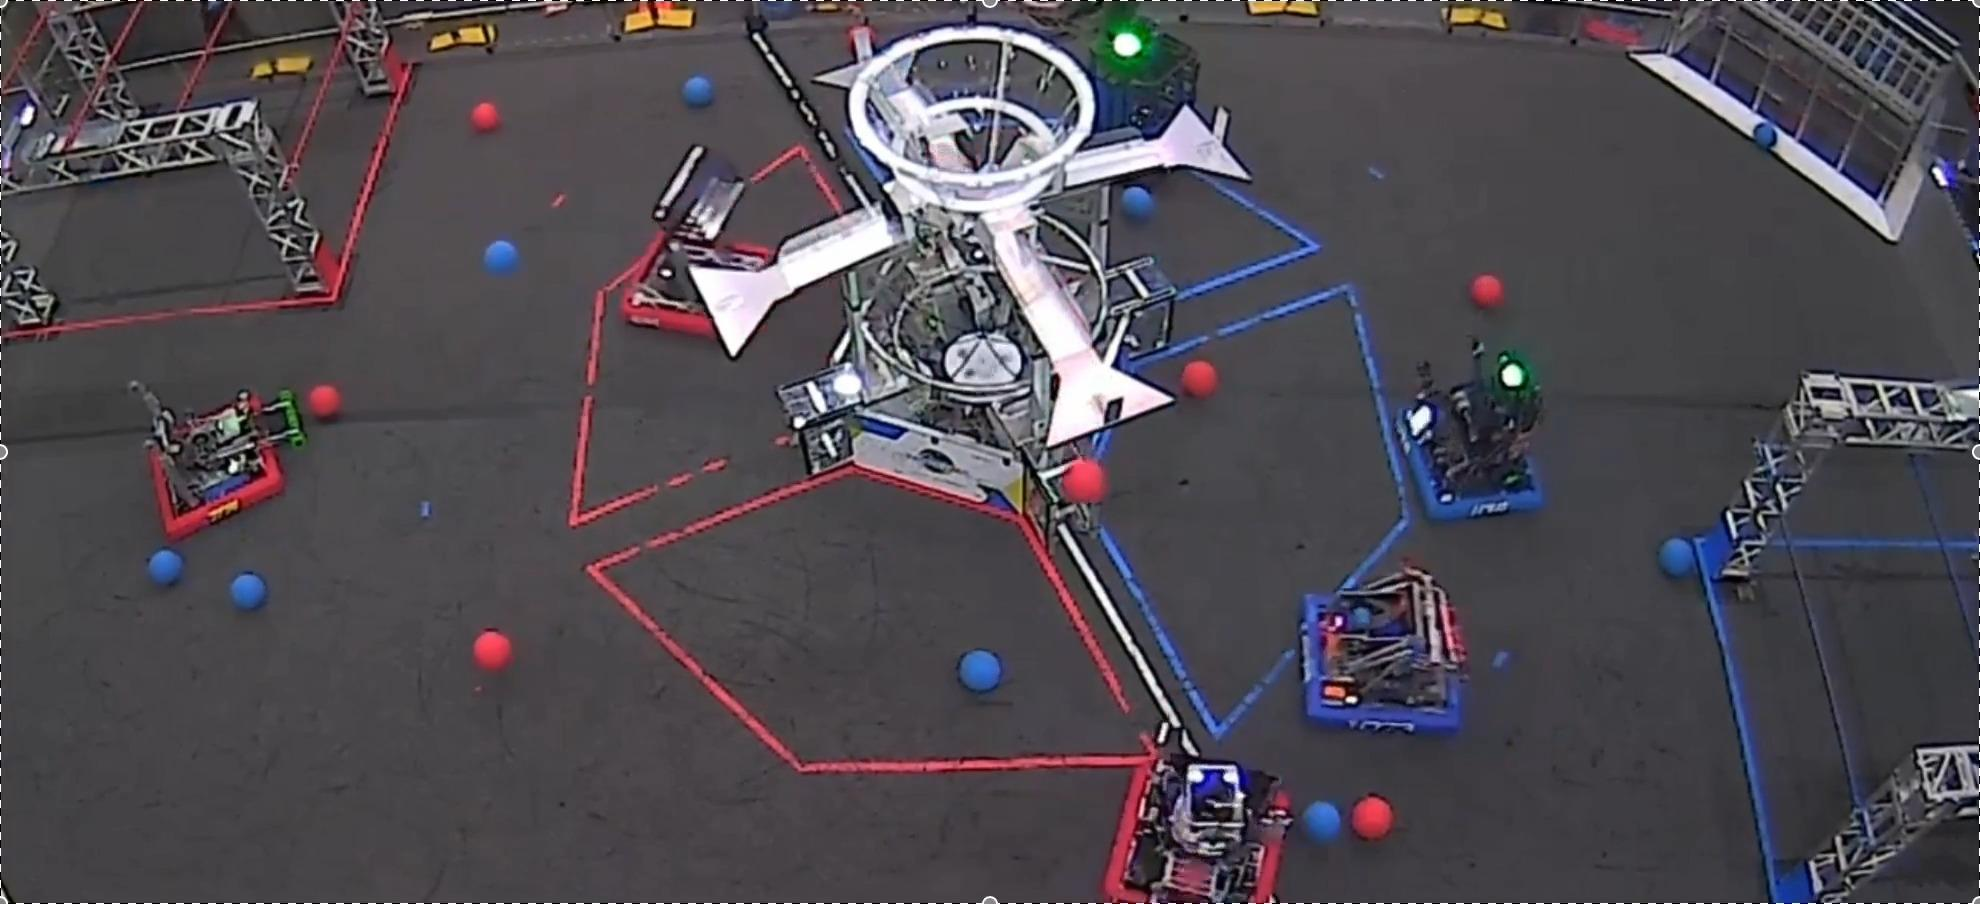Robots: (1102, 726, 1291, 901), (621, 145, 769, 337), (129, 381, 306, 540), (1301, 566, 1466, 734), (1399, 340, 1543, 519), (1082, 16, 1210, 181)
